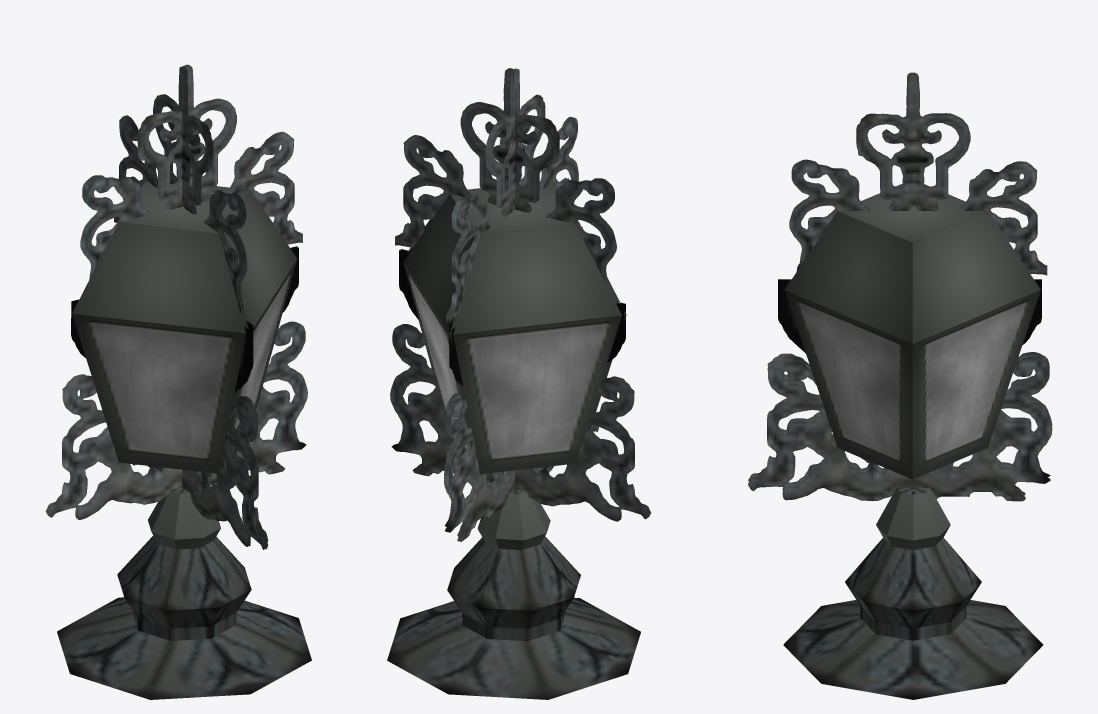
Rendered from lantaarn 2.fbx.
3 renders of one model, left to right at view 1: azimuth 30°, elevation 25°; view 2: azimuth 150°, elevation 25°; view 3: azimuth 270°, elevation 25°, orthographic.
Parts seen in each view (by area): view 1: Mesh Object; view 2: Mesh Object; view 3: Mesh Object.
Boxes of the visible parts, box(x1,y1,x2,y2) form: Mesh Object: box(45, 64, 311, 699); Mesh Object: box(387, 68, 651, 699); Mesh Object: box(748, 72, 1052, 699).
Bounding box in the file's own units: 0.6775 × 1.18 × 0.6946.
